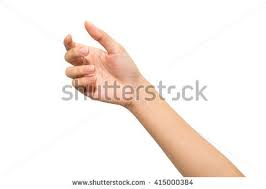hand: (53, 18, 161, 117)
